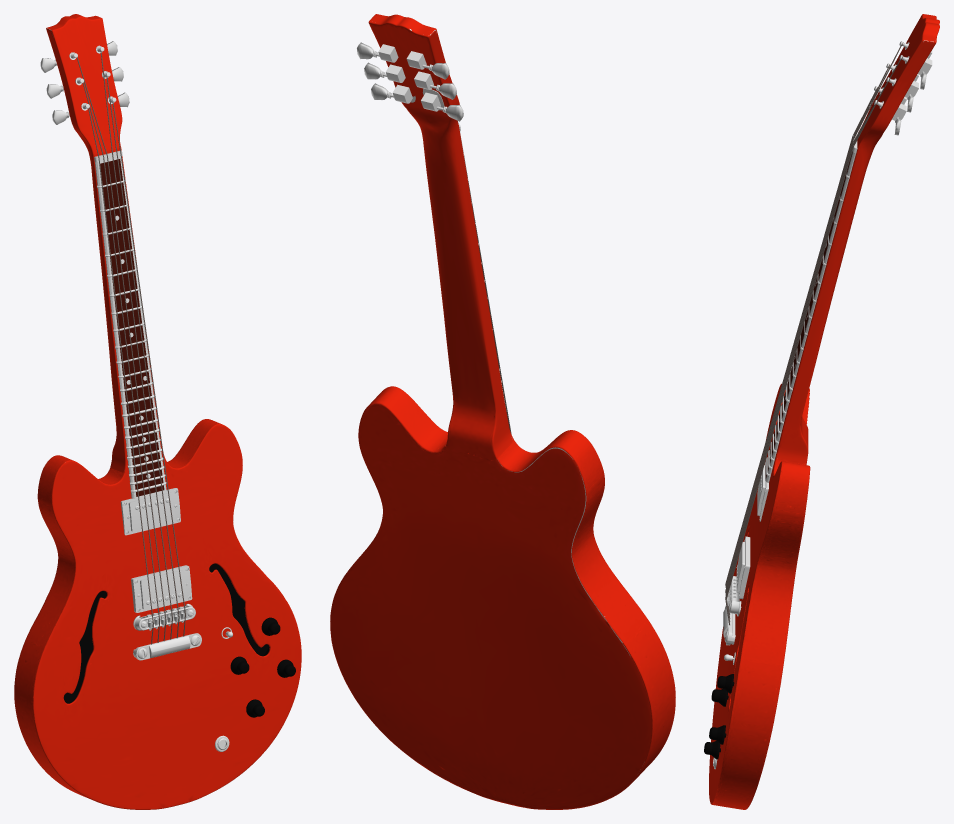
File: 335full2-v2.glb
3 renders of one model, left to right at view 1: azimuth 30°, elevation 25°; view 2: azimuth 150°, elevation 25°; view 3: azimuth 270°, elevation 25°, orthographic. The views are drawn at different scales.
Visible parts, largest first — view 1: varnish, fretboard, strings, pickup_cover, fretbinding, tail_saddle, frets, UN_inside, pickup_ring, mechs, knobs; view 2: varnish, mechs; view 3: varnish, strings, fretbinding, mechs, knobs, fretboard, tail_saddle, frets, pickup_cover, pickup_ring.
Part boxes in pixels (x1,y1,x2,y2): varnish: [14, 14, 301, 809]; fretboard: [100, 159, 164, 496]; strings: [77, 51, 185, 644]; pickup_cover: [128, 492, 186, 609]; fretbinding: [95, 156, 166, 498]; tail_saddle: [133, 603, 201, 660]; frets: [97, 179, 166, 492]; UN_inside: [63, 563, 269, 703]; pickup_ring: [120, 488, 192, 612]; mechs: [40, 41, 129, 124]; knobs: [230, 617, 295, 717]; varnish: [330, 14, 675, 809]; mechs: [357, 42, 463, 121]; varnish: [709, 14, 939, 809]; strings: [725, 42, 902, 625]; fretbinding: [765, 152, 855, 482]; mechs: [874, 41, 932, 135]; knobs: [704, 674, 734, 759]; fretboard: [765, 151, 852, 478]; tail_saddle: [723, 576, 741, 645]; frets: [766, 173, 849, 476]; pickup_cover: [736, 465, 765, 592]; pickup_ring: [739, 461, 768, 599].
Size of the model in its own units: 0.7737 by 1.98 by 0.5506.
